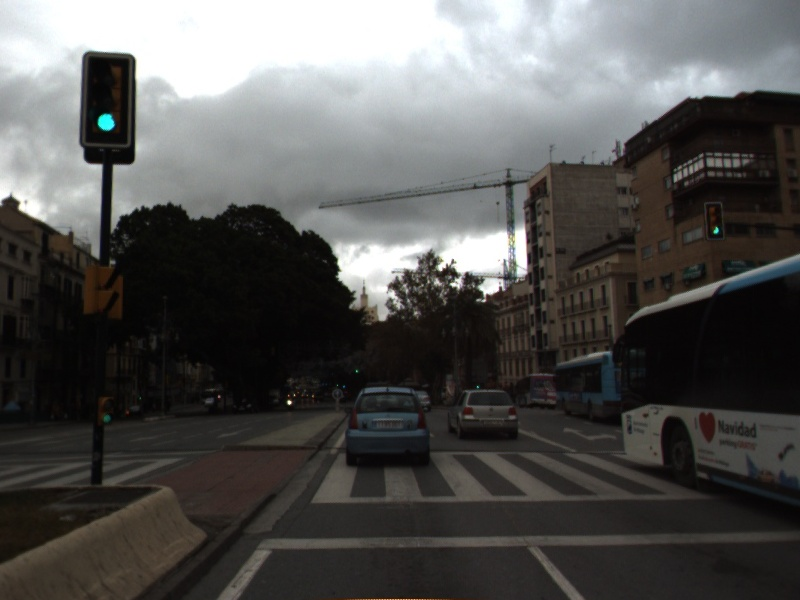STRAIGHT_RIGHT: (561, 425, 619, 443)
